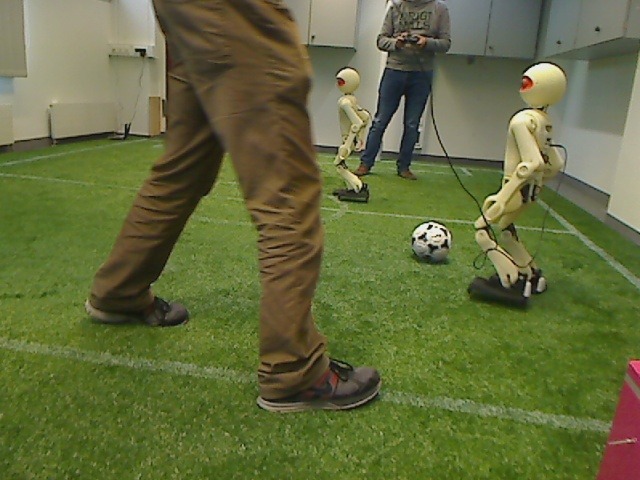ball: (407, 218, 457, 268)
robot: (466, 64, 567, 312), (325, 64, 379, 207)
